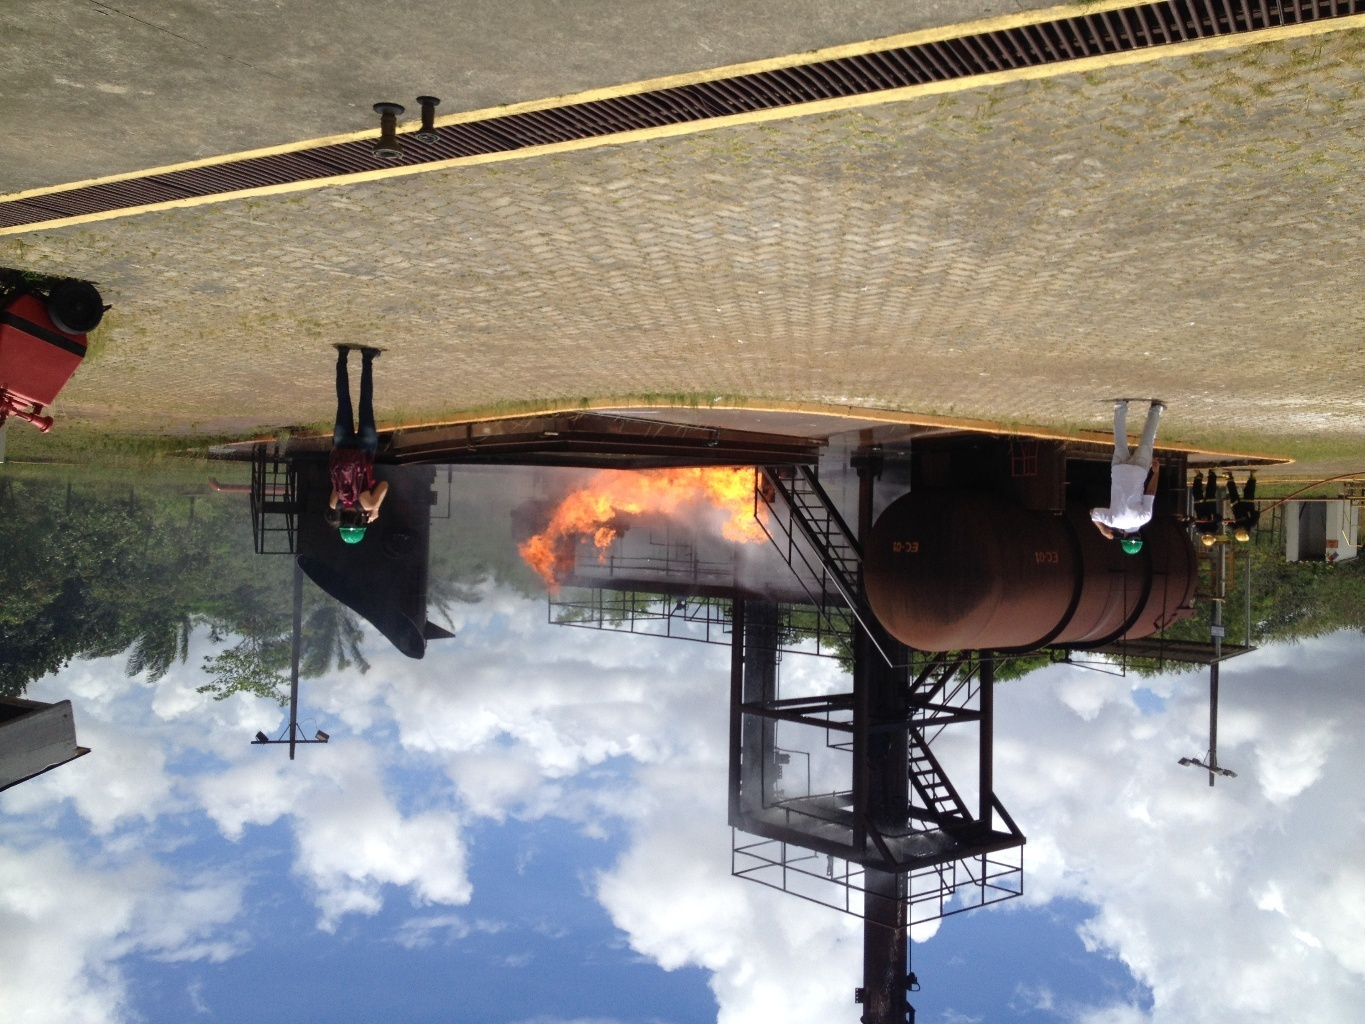fire: (521, 465, 770, 587)
